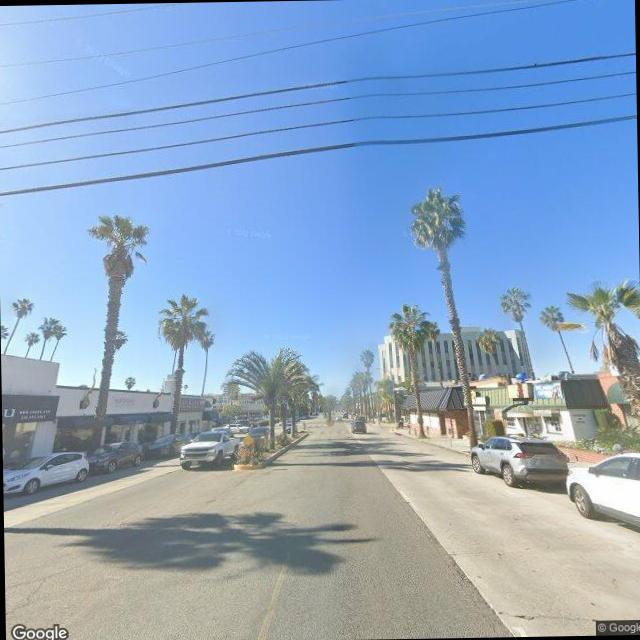pothole: (4, 550, 98, 628)
